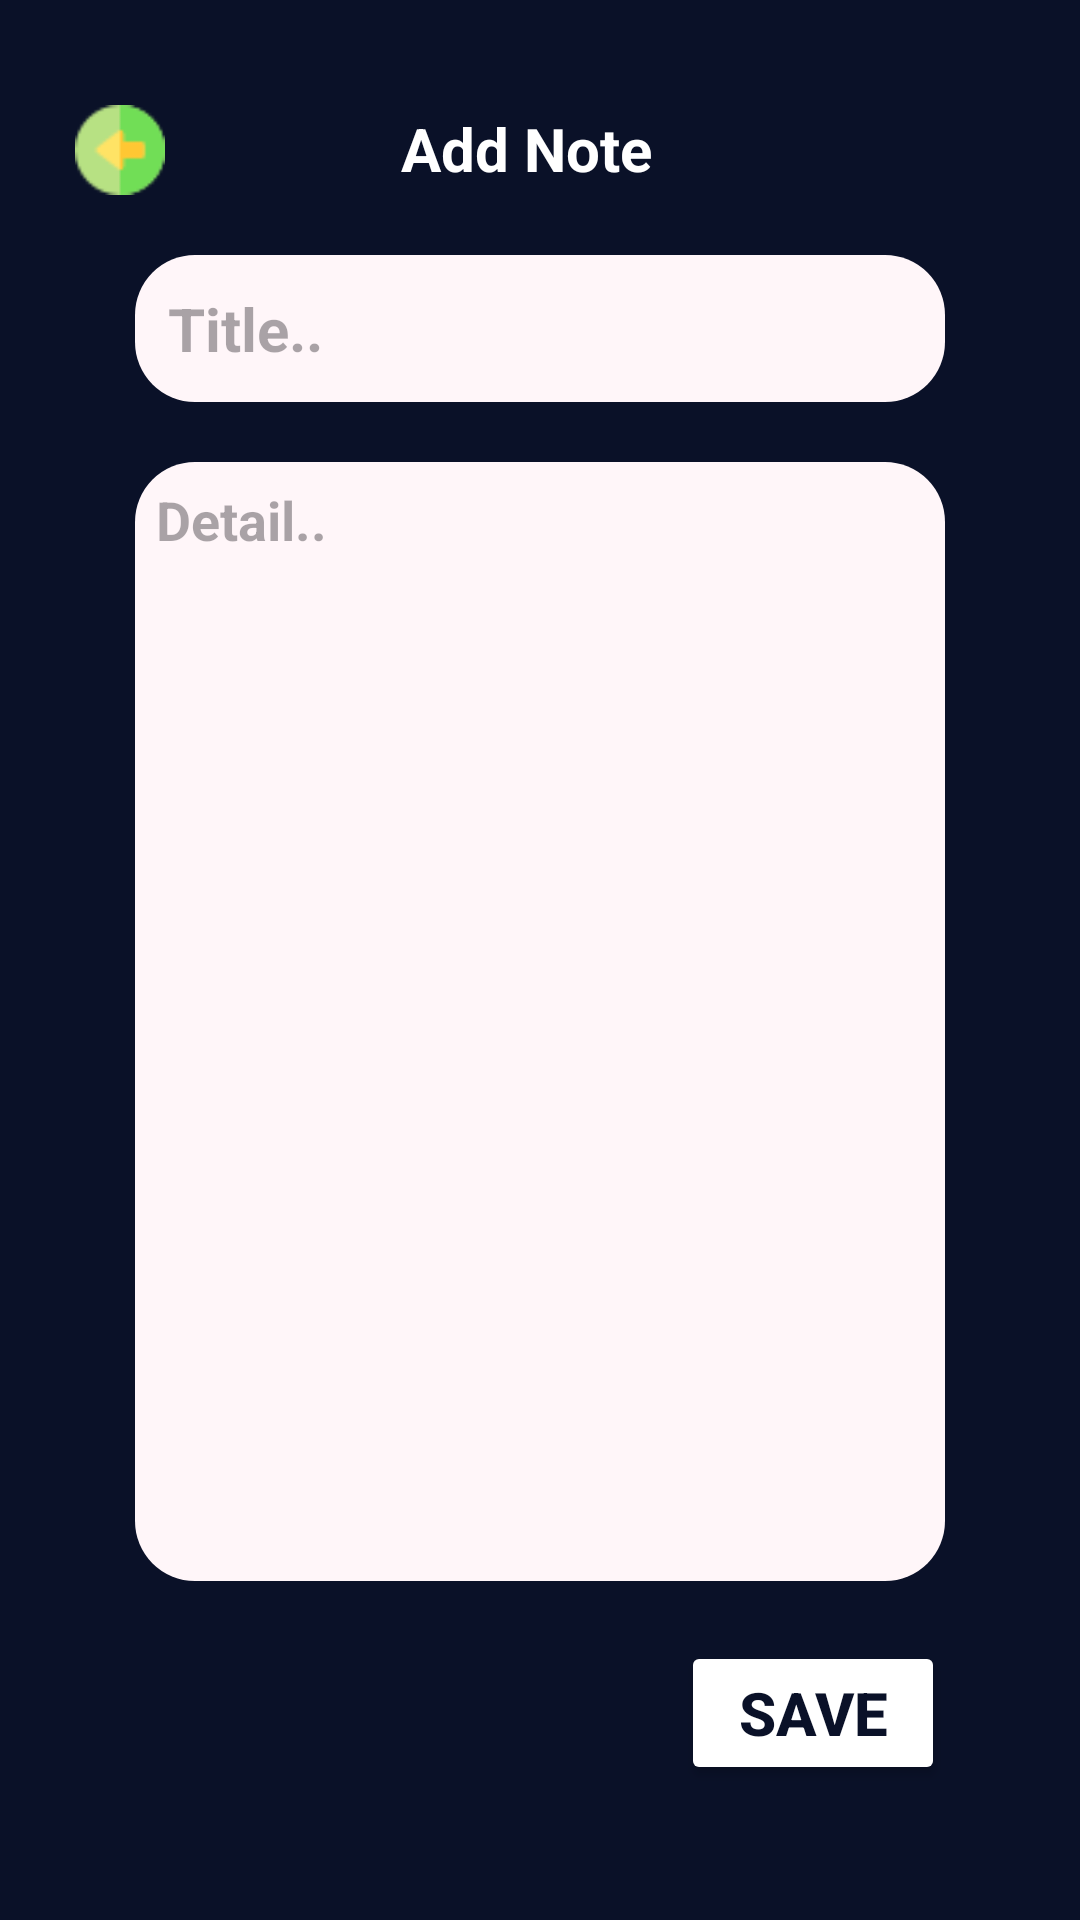

Icons on this 1080 × 1920 Android screen, each with its box as (left=x1, top=y1, right=x2, bottom=y2):
back: (left=75, top=105, right=165, bottom=195)
